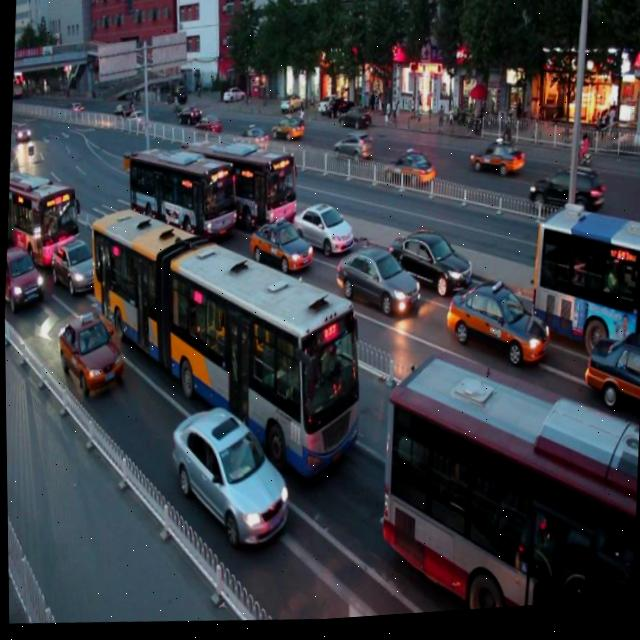car: (164, 399, 289, 552), (444, 276, 553, 380), (333, 240, 420, 325), (388, 224, 475, 302), (56, 311, 126, 398), (582, 333, 640, 416), (246, 211, 314, 280), (289, 195, 354, 264), (49, 238, 104, 301), (3, 247, 46, 313)
van: (77, 188, 372, 495), (374, 345, 640, 621), (527, 203, 640, 358), (123, 135, 241, 255), (182, 128, 301, 239), (5, 160, 81, 262)
